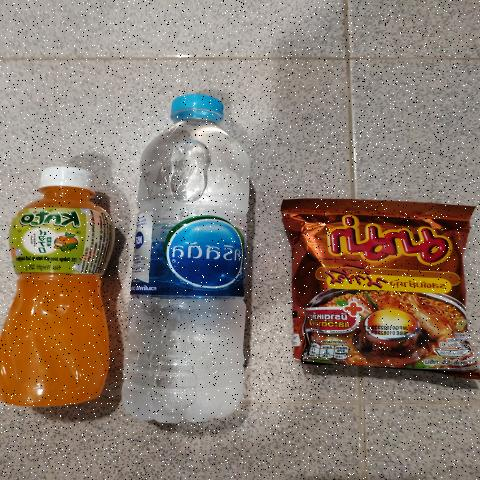crystal: (145, 94, 247, 406)
mama: (303, 208, 464, 354)
